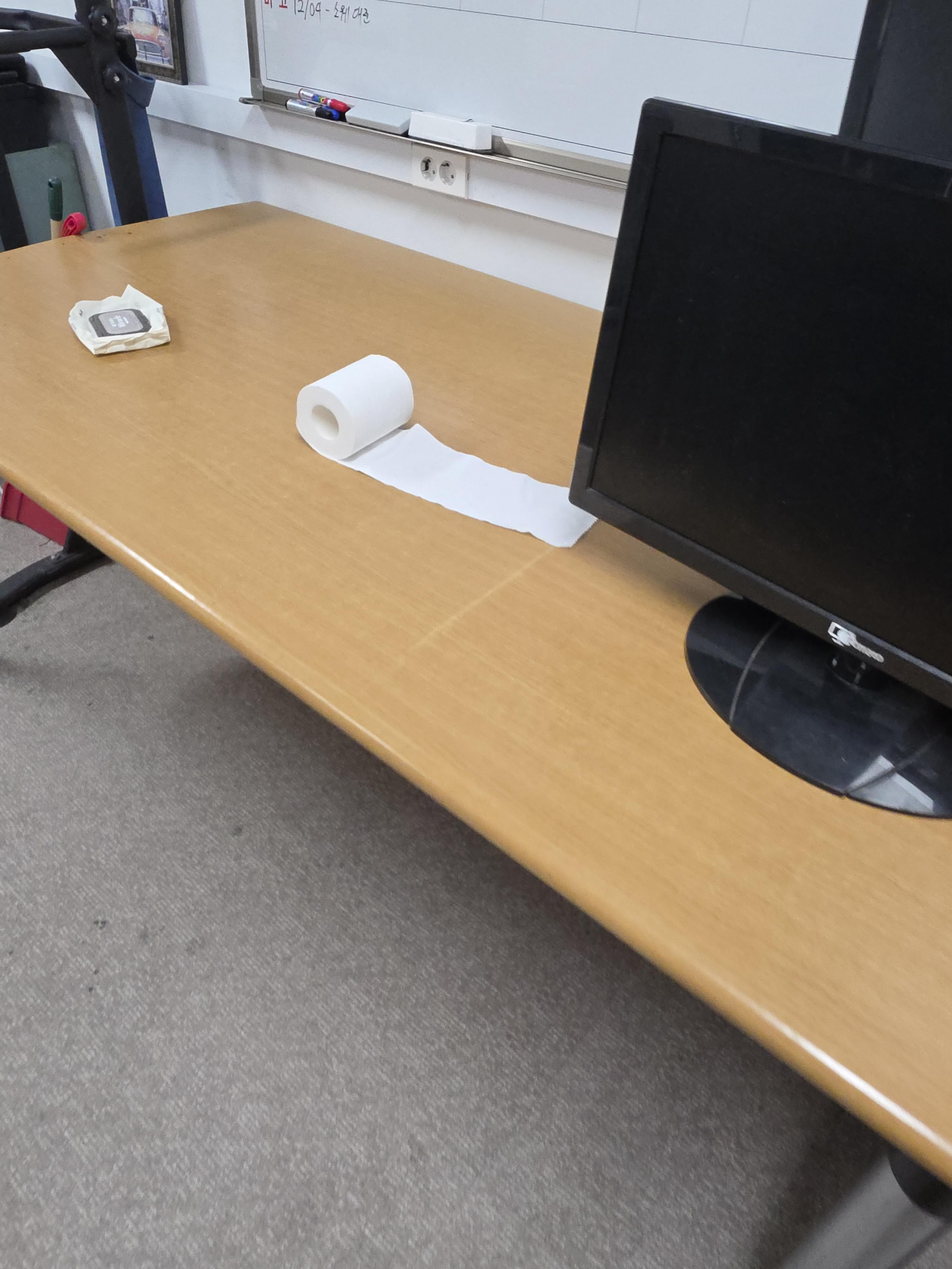tissue: (296, 353, 599, 548), (68, 284, 171, 355)
